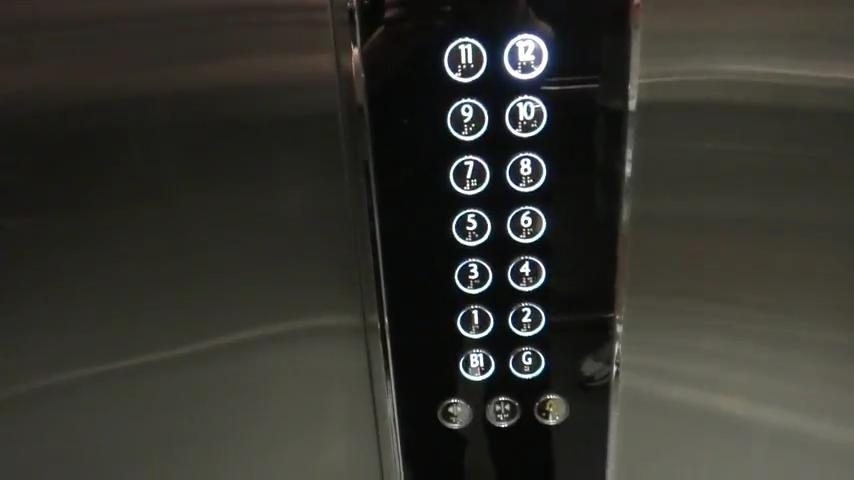1: (456, 305, 495, 340)
10: (505, 94, 546, 139)
11: (441, 37, 488, 82)
12: (502, 32, 548, 82)
2: (508, 301, 546, 339)
3: (450, 257, 494, 294)
4: (506, 255, 547, 291)
5: (451, 205, 493, 247)
6: (504, 203, 546, 244)
7: (446, 153, 492, 194)
8: (503, 151, 548, 192)
9: (446, 97, 488, 142)
B1: (458, 347, 496, 382)
G: (507, 344, 547, 377)
alarm: (533, 394, 569, 424)
close: (482, 394, 522, 428)
open: (436, 398, 473, 431)
